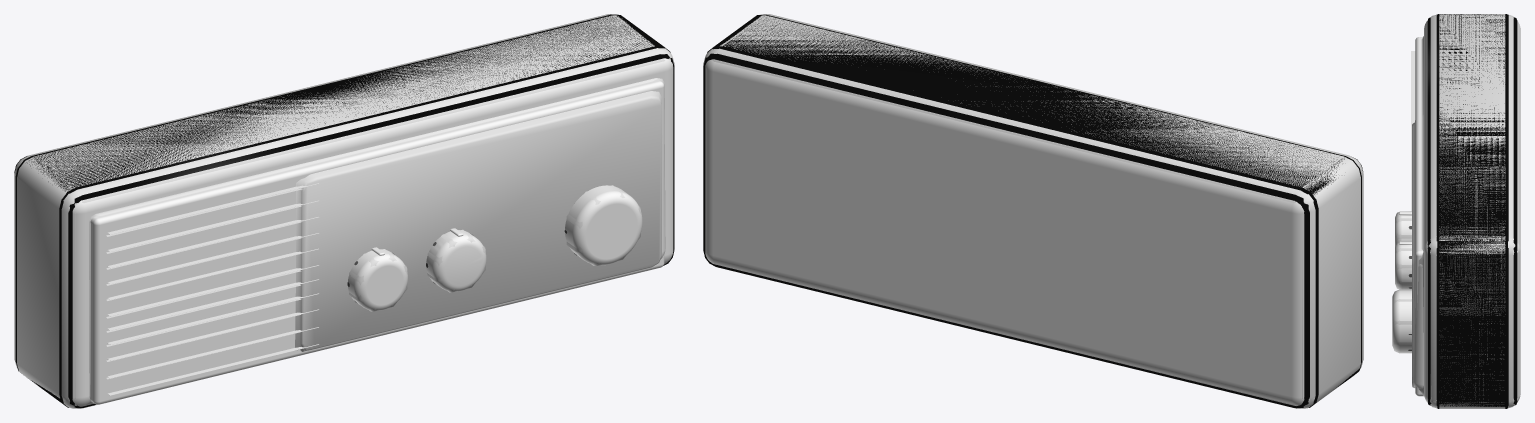
Rendered from radio.glb.
3 renders of one model, left to right at view 1: azimuth 30°, elevation 25°; view 2: azimuth 150°, elevation 25°; view 3: azimuth 270°, elevation 25°, orthographic. The views are drawn at different scales.
Visible parts, largest first — view 1: Cube, 000_Merged_Objects.002, Cube.001; view 2: 000_Merged_Objects.002, Cube.001, Cube; view 3: Cube.001, Cube, 000_Merged_Objects.002, Cylinder.005, Cylinder.004, Cylinder.003.
Boxes of the visible parts, x1,y1,x2,y2 form: Cube: (14,14,674,408); 000_Merged_Objects.002: (15,58,673,408); Cube.001: (14,14,674,407); 000_Merged_Objects.002: (704,59,1362,408); Cube.001: (703,14,1363,408); Cube: (703,14,1363,408); Cube.001: (1427,14,1517,408); Cube: (1412,14,1518,408); 000_Merged_Objects.002: (1392,20,1520,405); Cylinder.005: (1393,289,1411,353); Cylinder.004: (1395,241,1411,289); Cylinder.003: (1395,211,1411,240).
Size of the model in its own units: 78.48 by 26.95 by 18.25.
Materials: 4 (2 with a texture image).
